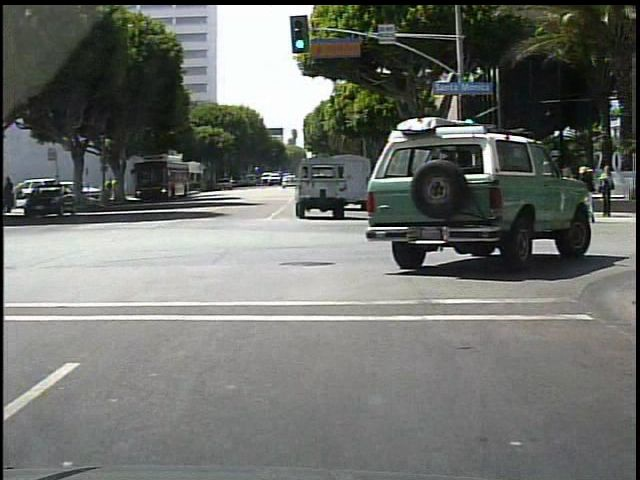person: (580, 165, 597, 223), (598, 167, 616, 218), (516, 159, 531, 214), (475, 169, 492, 217), (507, 167, 522, 216), (506, 164, 520, 213), (466, 165, 477, 216), (116, 176, 125, 204), (105, 177, 114, 200), (574, 172, 575, 221)
